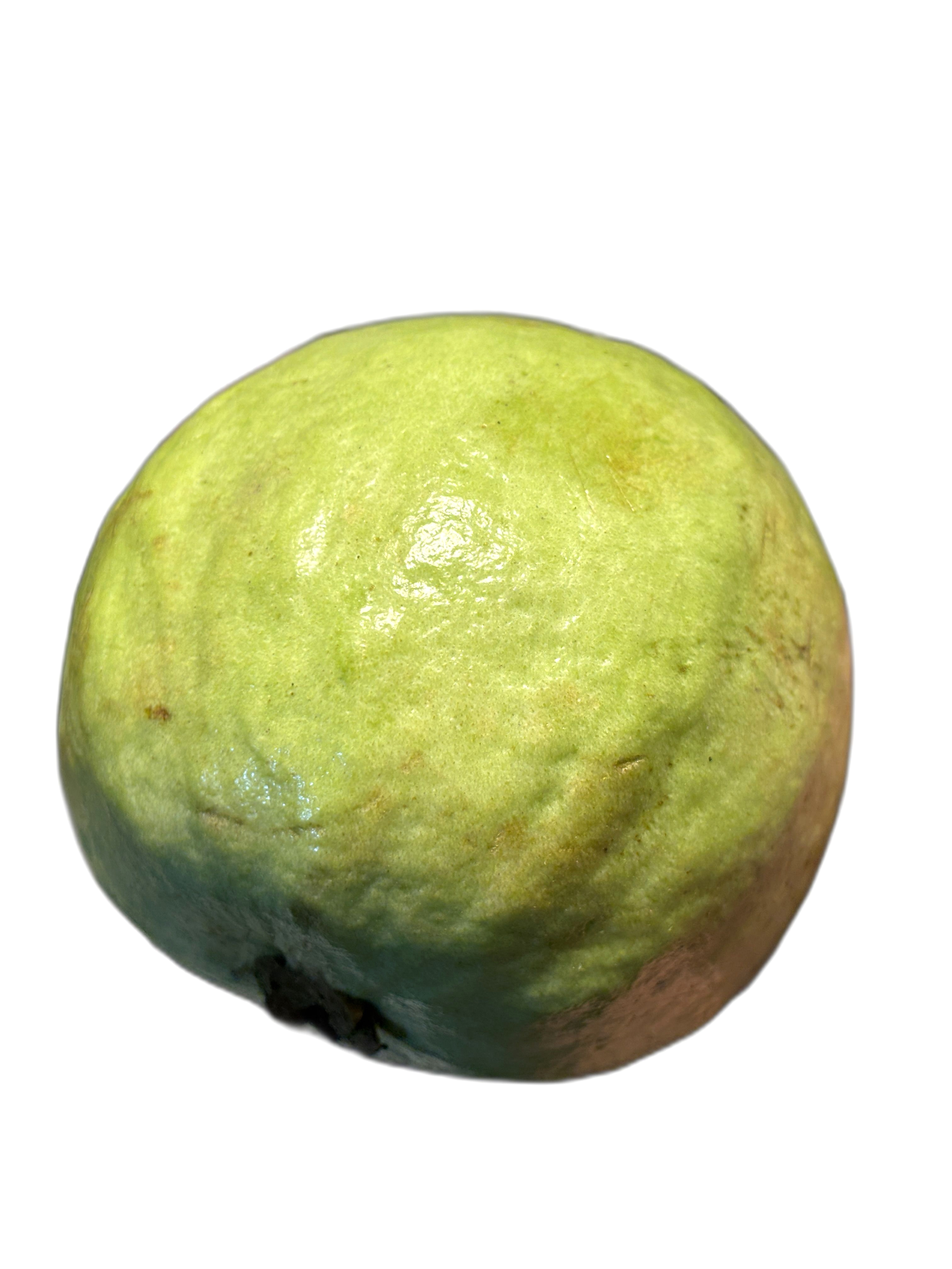guava: (93, 226, 791, 1134)
